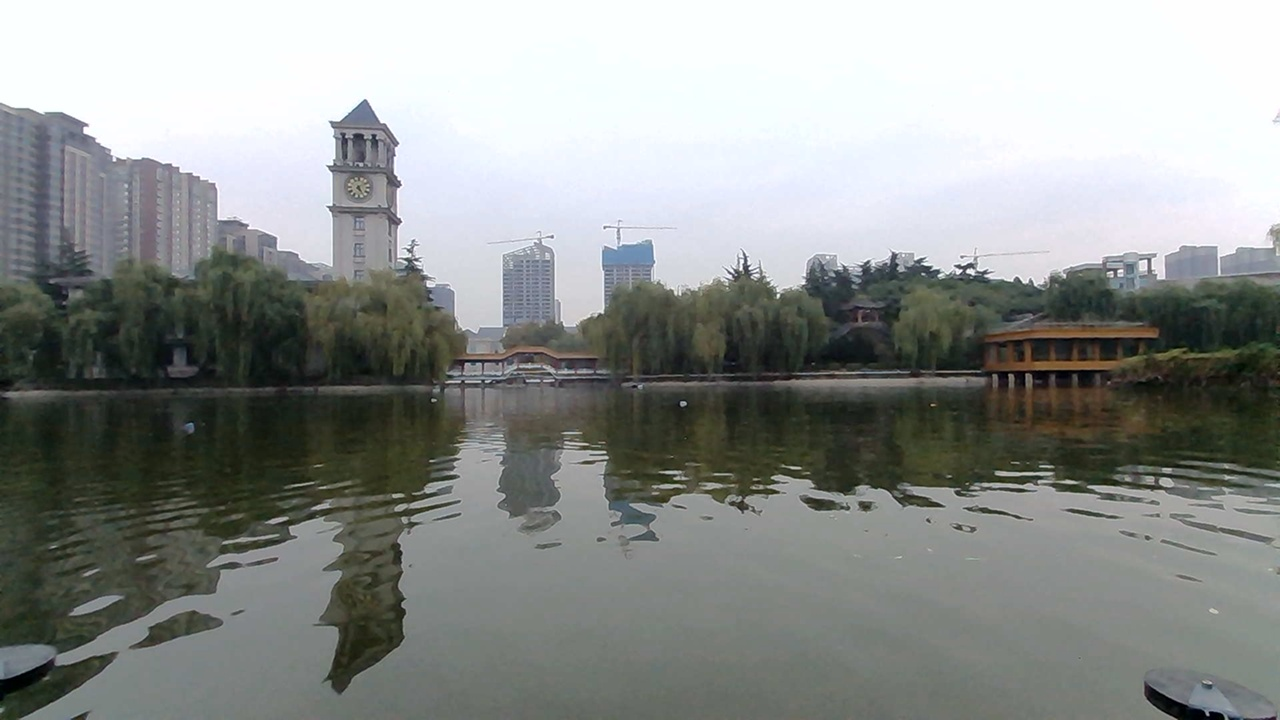bottle: (660, 391, 703, 415), (170, 416, 204, 438)
